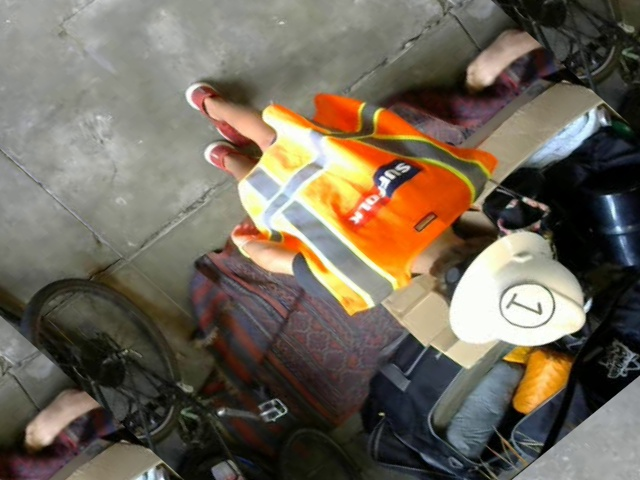one: (489, 272, 565, 338)
